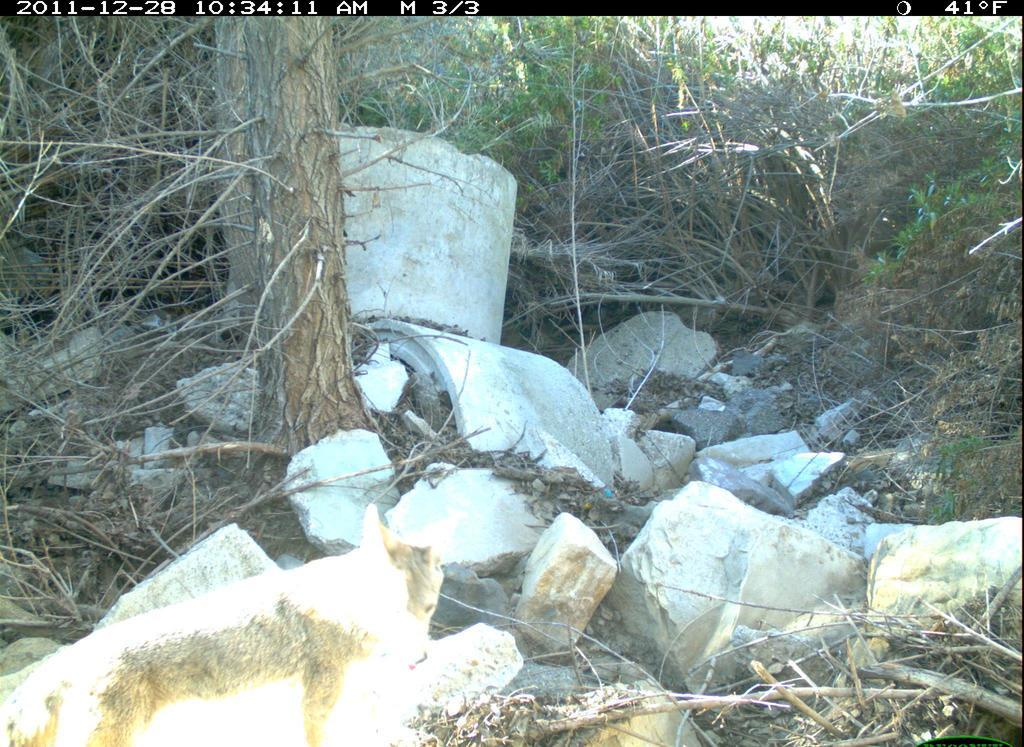coyote: (4, 495, 473, 747)
